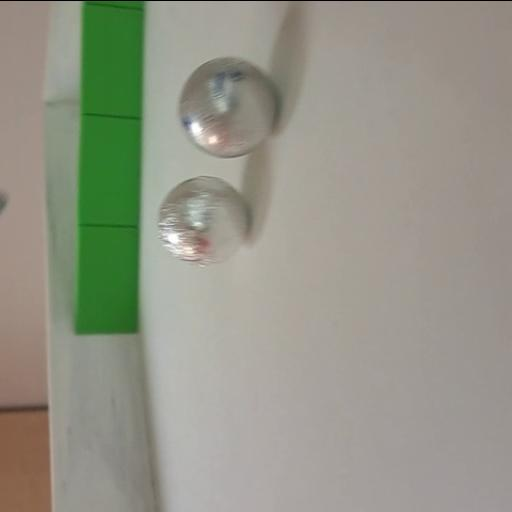alive: (178, 54, 278, 158), (158, 174, 250, 266)
